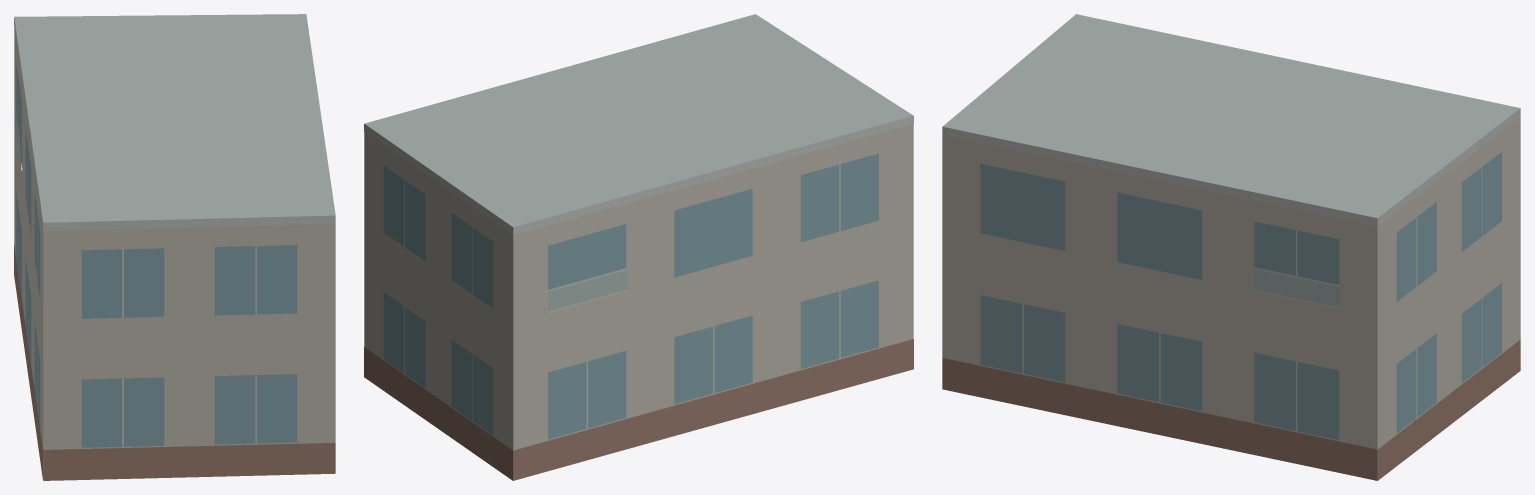
File: survey-upis-32729293.glb
The picture shows the model from 3 angles, left to right: view 1: azimuth 30°, elevation 25°; view 2: azimuth 150°, elevation 25°; view 3: azimuth 270°, elevation 25°; orthographic projection. The views are drawn at different scales.
Parts seen in each view (by area): view 1: survey-upis-32729293.tmp; view 2: survey-upis-32729293.tmp; view 3: survey-upis-32729293.tmp.
Boxes of the visible parts, x1=… form: survey-upis-32729293.tmp: x1=14, y1=14, x2=335, y2=480; survey-upis-32729293.tmp: x1=364, y1=14, x2=913, y2=480; survey-upis-32729293.tmp: x1=942, y1=14, x2=1520, y2=480.
Bounding box in the file's own units: 12.68 × 7.6 × 15.17.
